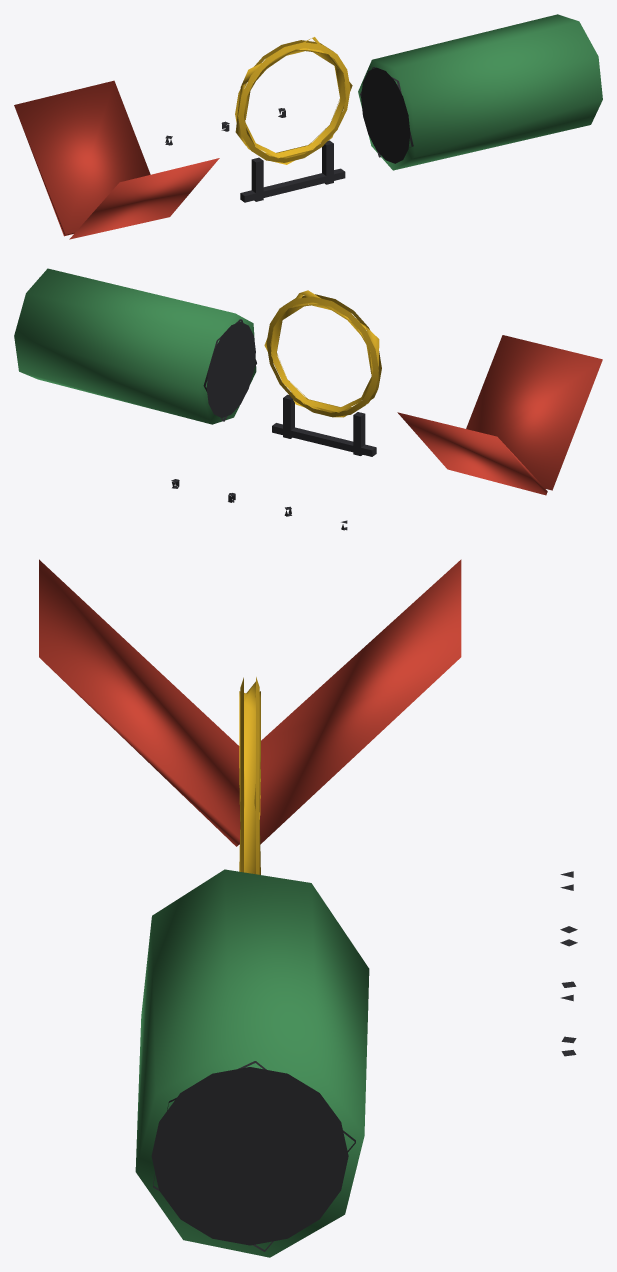
Rendered from lod_dog_agility.glb.
3 views of the same model, one above another, from view 1: azimuth 30°, elevation 25°; view 2: azimuth 150°, elevation 25°; view 3: azimuth 270°, elevation 25° (orthographic). The views are drawn at different scales.
Parts seen in each view (by area): view 1: dog_agility; view 2: dog_agility; view 3: dog_agility.
Part boxes in pixels (box(x1,y1,x2,y2)): dog_agility: box(14, 14, 602, 239); dog_agility: box(14, 268, 602, 530); dog_agility: box(39, 559, 577, 1257).
Size of the model in its own units: 4.06 by 1.14 by 1.86.
